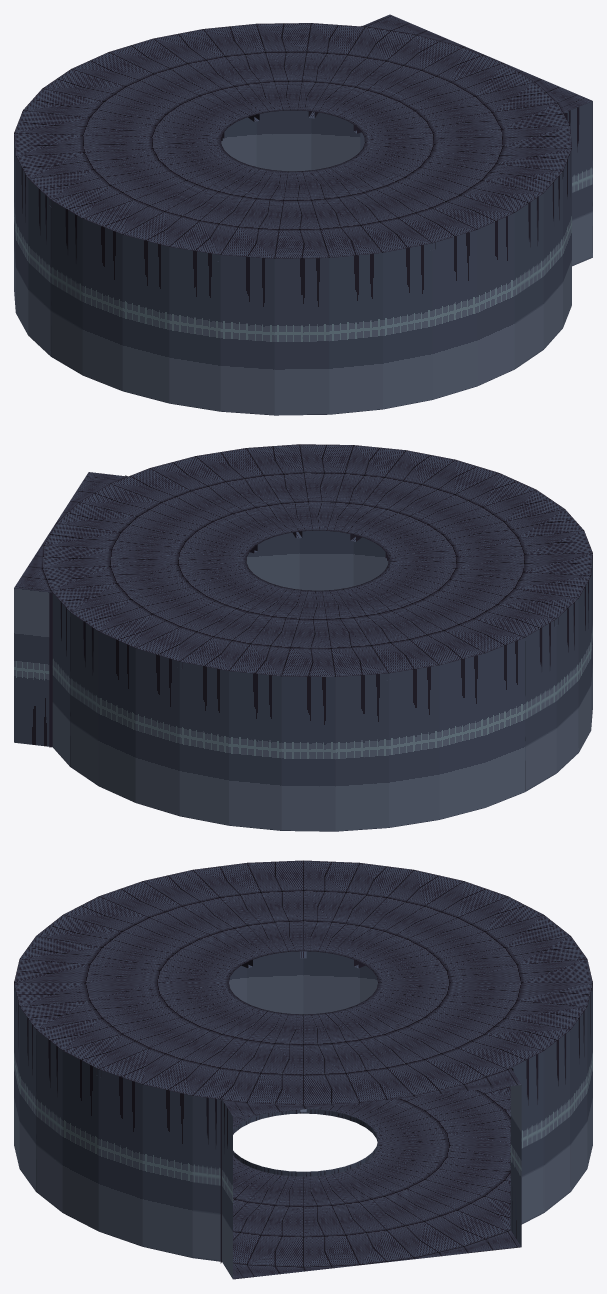
Rendered from SUB-02_Cruce_de_nave_I6.gltf.
3 views of the same model, one above another, from view 1: azimuth 30°, elevation 25°; view 2: azimuth 150°, elevation 25°; view 3: azimuth 270°, elevation 25° (orthographic). The views are drawn at different scales.
Visible parts, largest first — view 1: SUB-02_Cruce_de_nave_I6-col; view 2: SUB-02_Cruce_de_nave_I6-col; view 3: SUB-02_Cruce_de_nave_I6-col.
Boxes of the visible parts, x1,y1,x2,y2 form: SUB-02_Cruce_de_nave_I6-col: (14, 14, 592, 415); SUB-02_Cruce_de_nave_I6-col: (14, 444, 592, 831); SUB-02_Cruce_de_nave_I6-col: (14, 860, 592, 1279).
Bounding box in the file's own units: 20.35 × 6 × 19.4.
Materials: 2 (2 with a texture image).
